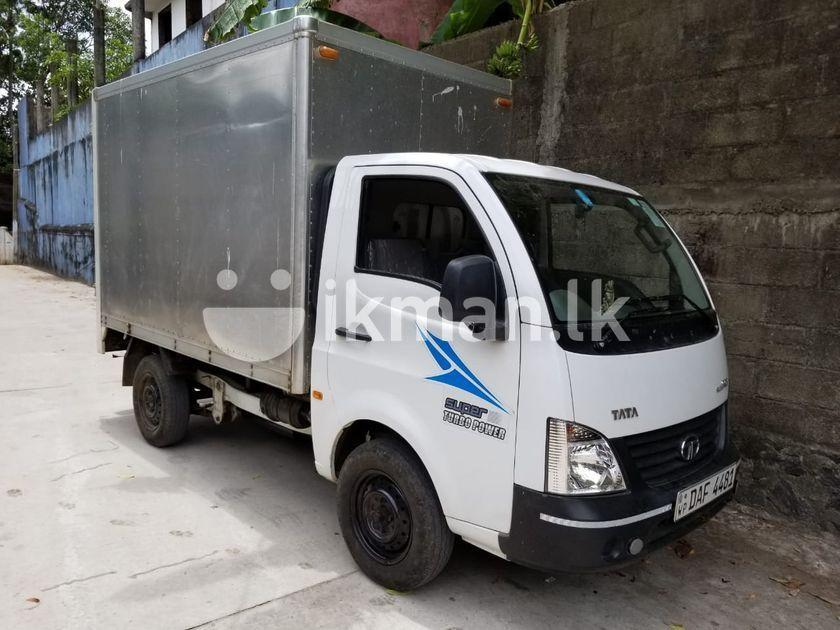truck: (90, 16, 740, 593)
